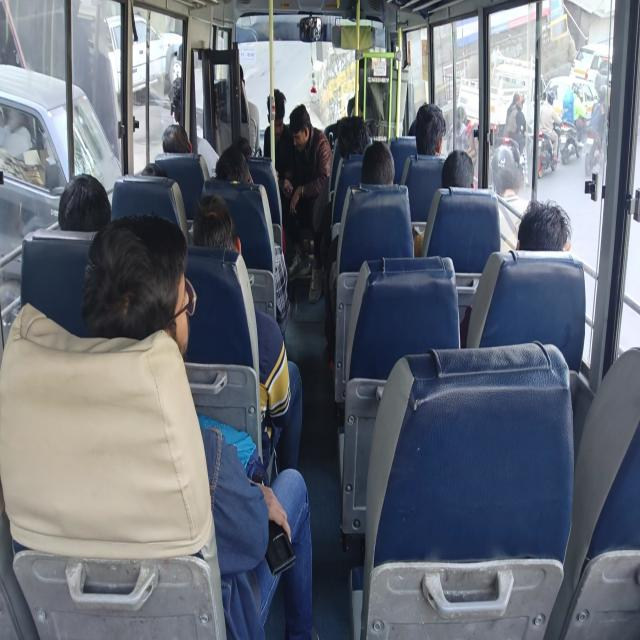person: (116, 262, 205, 372), (169, 213, 239, 303), (513, 209, 573, 265), (47, 169, 99, 231), (211, 50, 257, 96), (131, 158, 172, 208), (168, 83, 208, 133), (354, 159, 394, 206), (213, 149, 247, 200), (409, 110, 439, 156), (444, 159, 480, 191), (162, 126, 190, 160), (294, 103, 314, 150), (269, 87, 283, 138), (342, 136, 369, 162), (359, 47, 374, 89)
